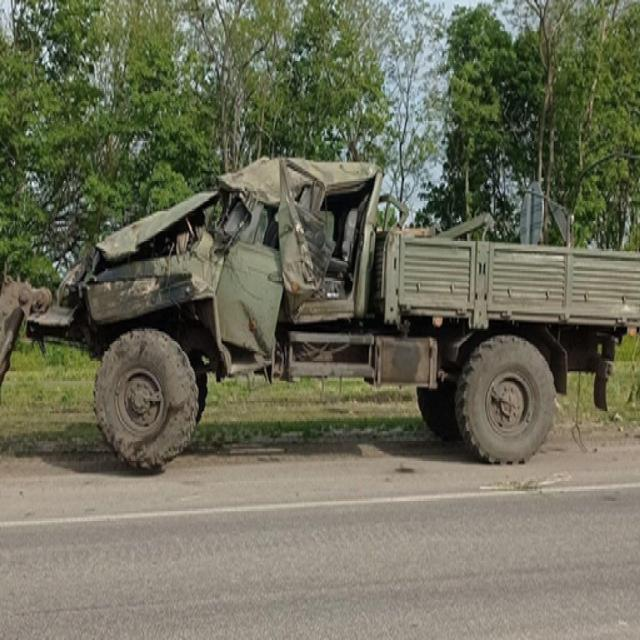TRUCK: (16, 136, 639, 480)
